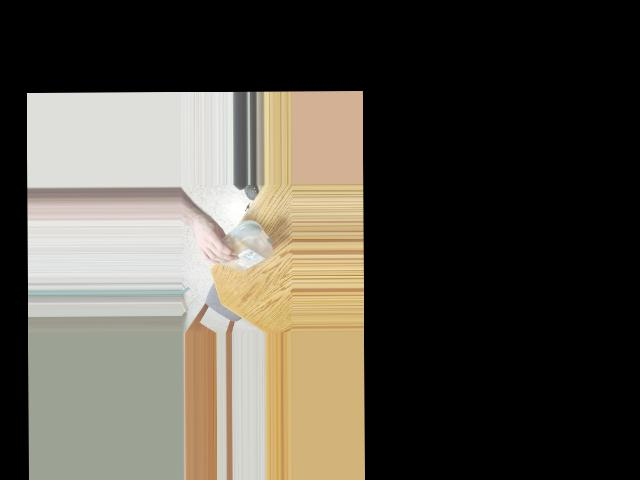cheese: (209, 221, 275, 274)
